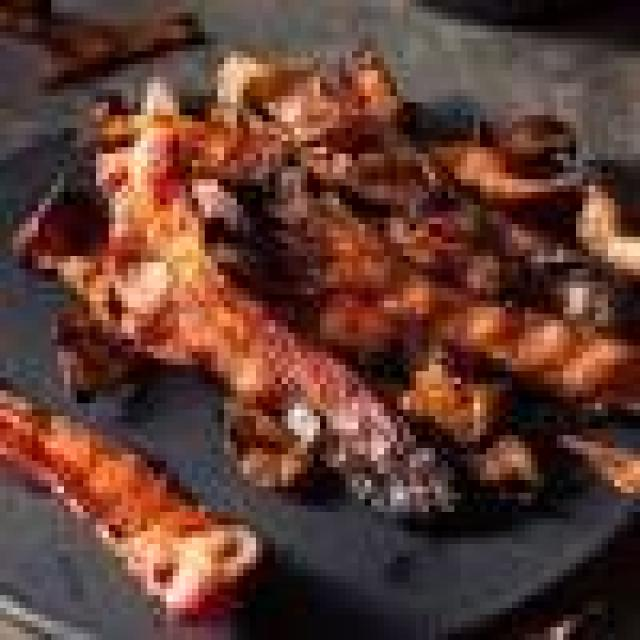Bacon: (20, 114, 405, 505), (0, 388, 259, 614)
